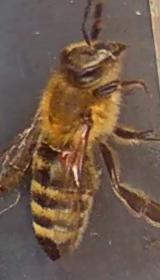varroa_mite: (50, 144, 80, 171)
